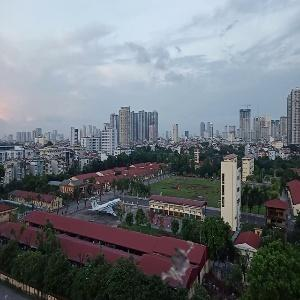drone: (147, 228, 210, 291)
